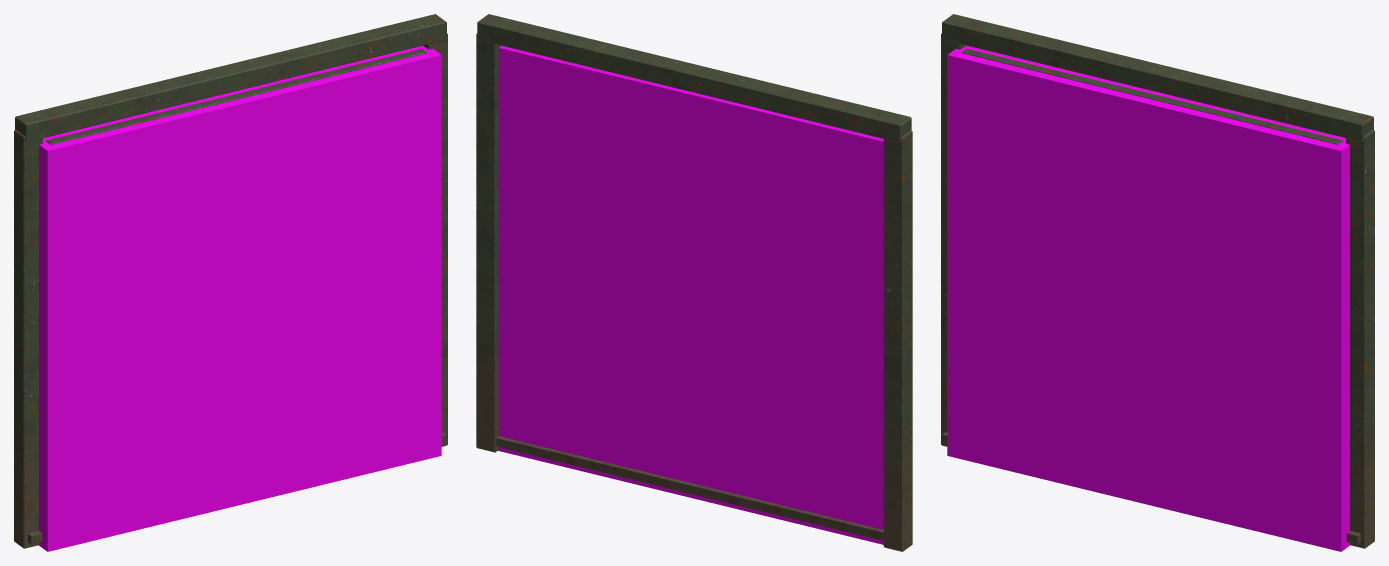
Rendered from prop_door_foundry_side.glb.
The picture shows the model from 3 angles, left to right: view 1: azimuth 30°, elevation 25°; view 2: azimuth 150°, elevation 25°; view 3: azimuth 330°, elevation 25°; orthographic projection.
Parts seen in each view (by area): view 1: prop_door_foundry_side-col, Frame, Panel; view 2: prop_door_foundry_side-col, Frame; view 3: prop_door_foundry_side-col, Frame, Panel.
Boxes of the visible parts, x1,y1,x2,y2 form: prop_door_foundry_side-col: [39, 45, 441, 551]; Frame: [14, 14, 447, 548]; Panel: [46, 49, 426, 144]; prop_door_foundry_side-col: [498, 45, 883, 544]; Frame: [476, 14, 912, 551]; prop_door_foundry_side-col: [947, 45, 1349, 551]; Frame: [941, 14, 1374, 548]; Panel: [962, 49, 1342, 144].
Size of the model in its own units: 3.88 by 3.71 by 0.3075.
Materials: 3 (2 with a texture image).
